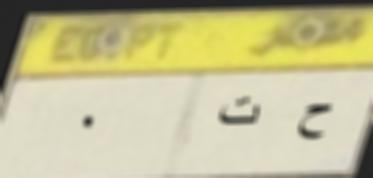0: (78, 108, 104, 132)
7aa: (294, 97, 334, 144)
taa: (212, 92, 264, 132)
